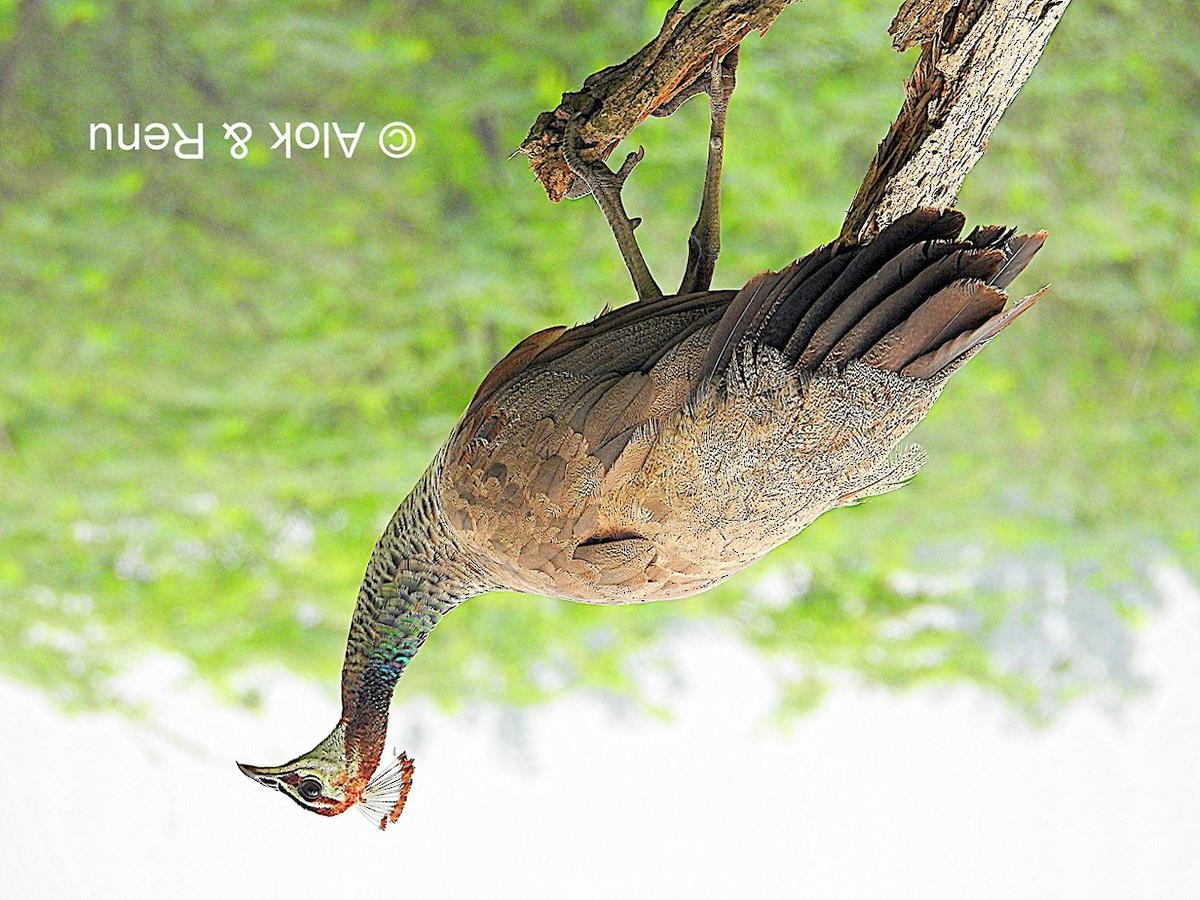peacock: (255, 204, 1035, 833)
